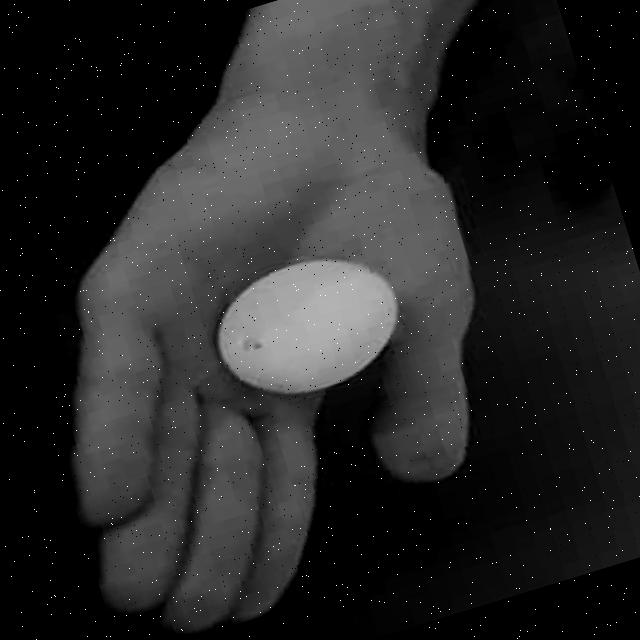ping-pong-ball: (198, 235, 418, 415)
